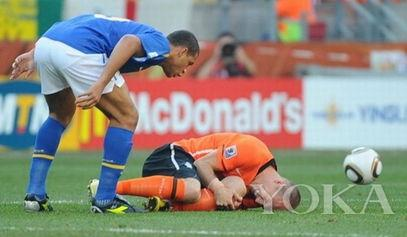bending: (4, 12, 202, 220)
down: (90, 118, 308, 216)
